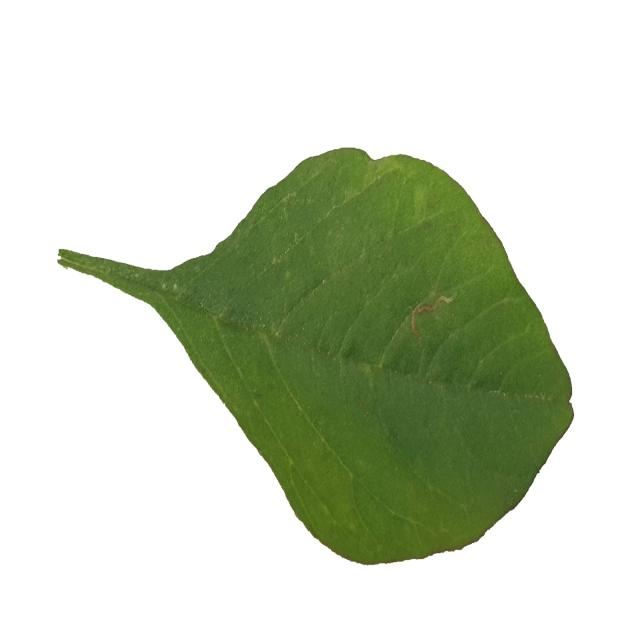Medicinal-Arive Dantu: (58, 148, 574, 566)
